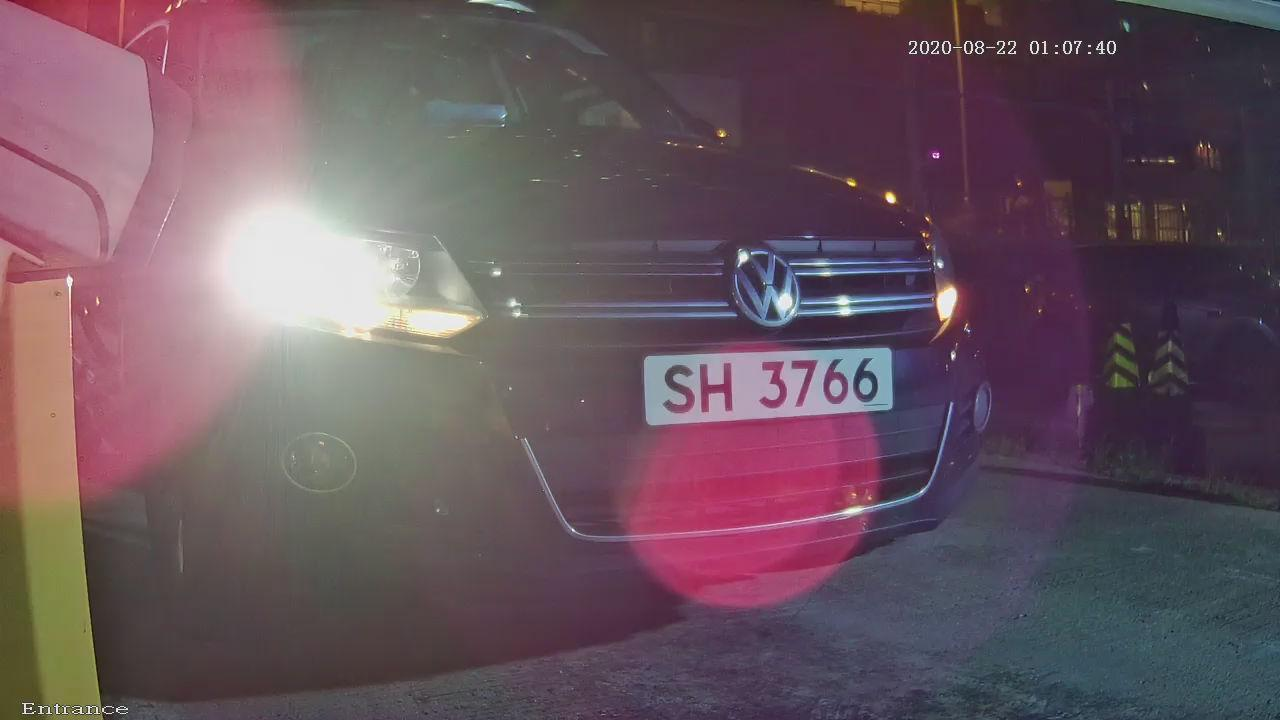Car: (23, 36, 1115, 624)
License Plate: (623, 332, 909, 441)
